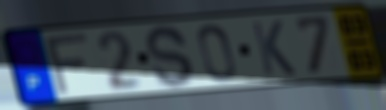0: (196, 22, 239, 84)
2: (95, 29, 145, 93)
7: (293, 13, 334, 77)
F: (42, 31, 91, 99)
K: (249, 19, 299, 78)
S: (143, 23, 198, 90)
